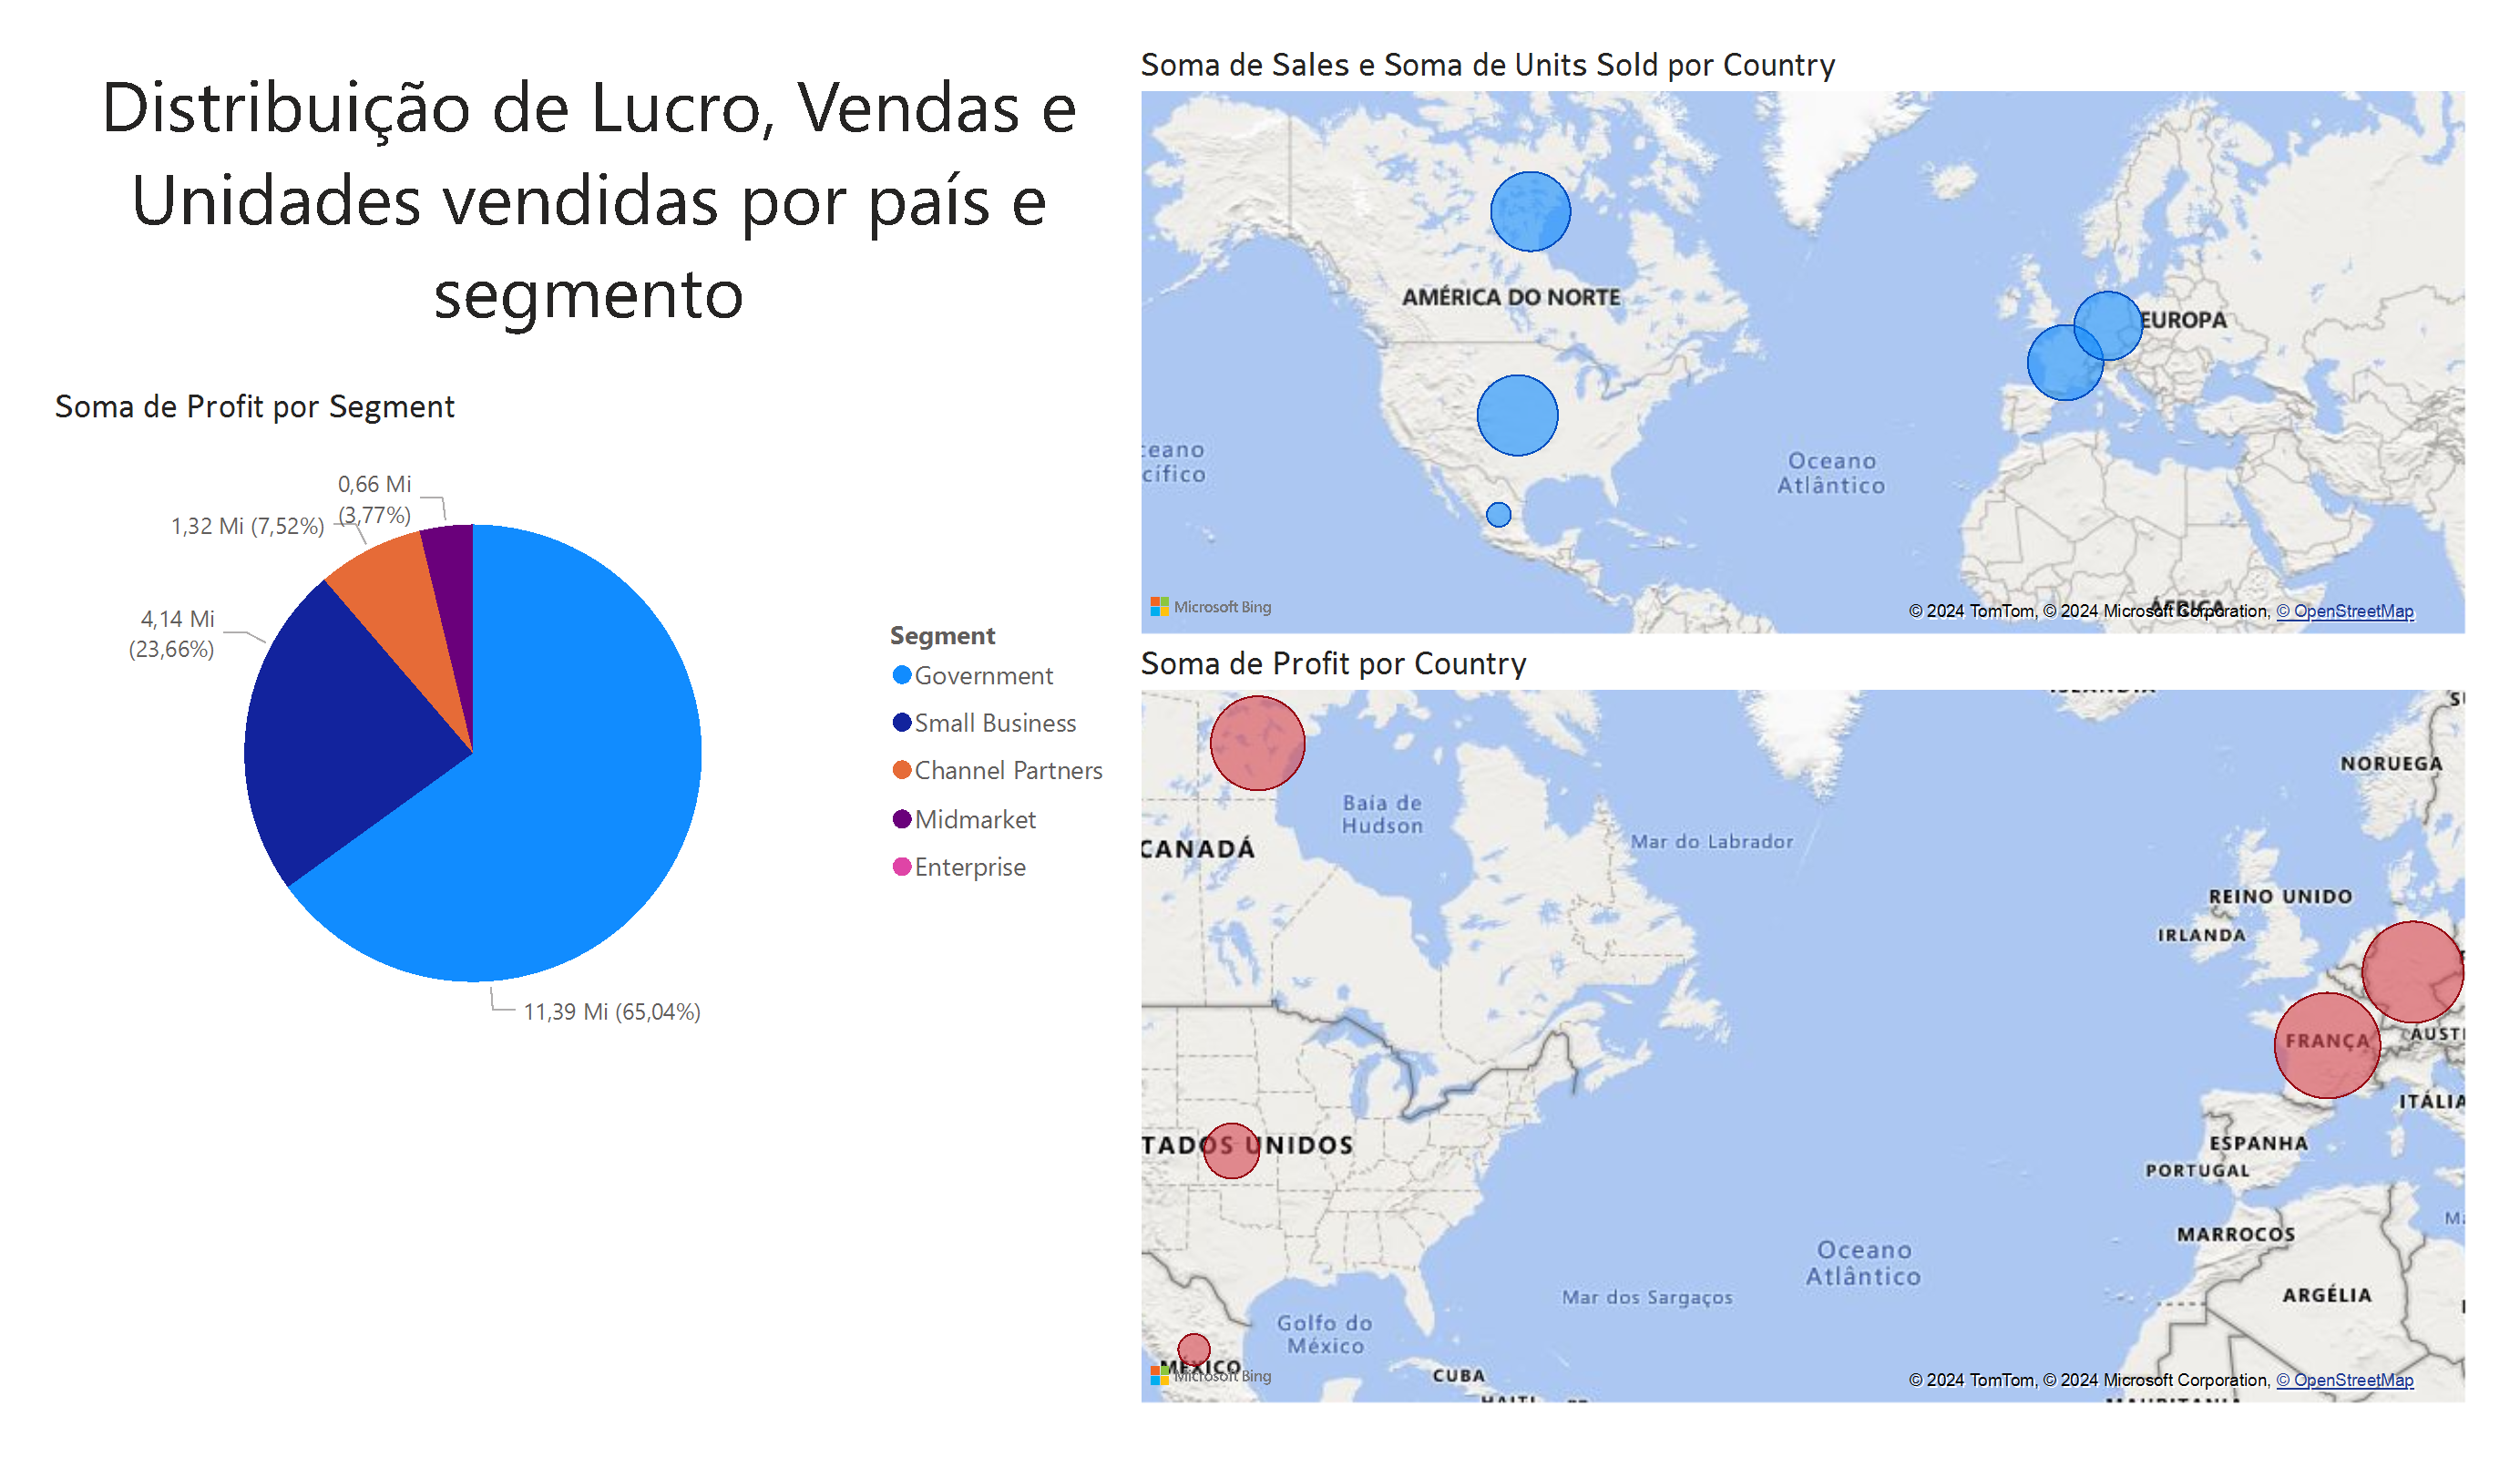

What the dashboard file says about the page in this screenshot:
{"tool":"powerbi","page":{"name":"Página 3","canvas":[1280,720],"ordinal":2},"visuals":[{"type":"pieChart","fields":{"Category":["financials.Segment"],"Y":["Sum(financials.Profit)"]},"box":[0,180,572.2,365.9],"z":0},{"type":"textbox","box":[0,0,572.2,165.4],"z":1000},{"type":"map","fields":{"Category":["financials.Country"],"Size":["Sum(financials. Sales)"]},"box":[572.2,0,708.3,314.6],"z":2000},{"type":"map","fields":{"Category":["financials.Country"],"Size":["Sum(financials.Profit)"]},"box":[572.2,314.6,708.3,405.4],"z":3000}]}

Visuals, with their boxes in screenshot pixels (x1, y1, x2, y2):
pieChart - financials.Segment x Sum(financials.Profit): {"left": 46, "top": 387, "right": 1132, "bottom": 1082}
textbox: {"left": 46, "top": 46, "right": 1132, "bottom": 360}
map - financials.Country x Sum(financials. Sales): {"left": 1132, "top": 46, "right": 2474, "bottom": 642}
map - financials.Country x Sum(financials.Profit): {"left": 1132, "top": 642, "right": 2474, "bottom": 1412}
